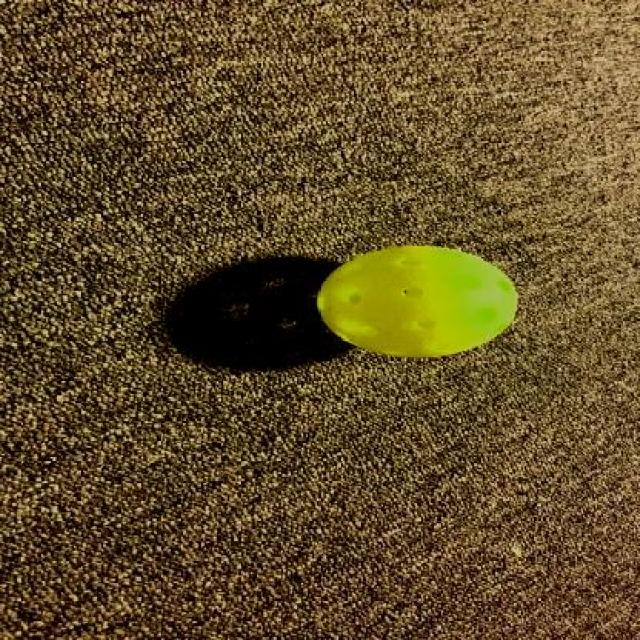ball: (313, 238, 528, 354)
